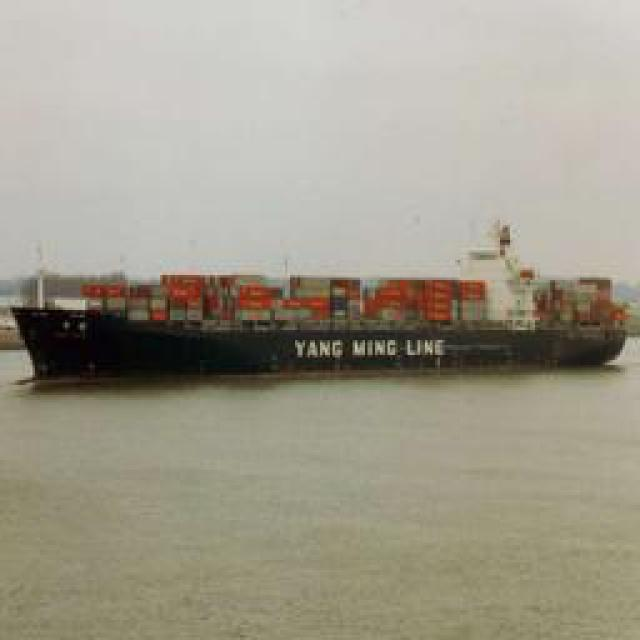Ship: (10, 245, 633, 375)
